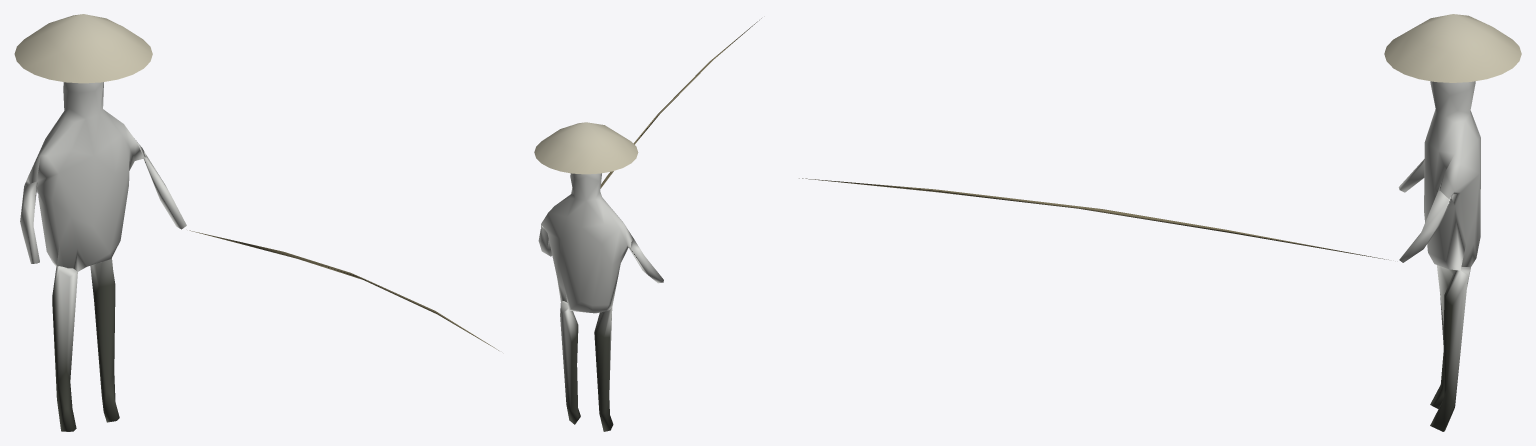
File: angler-1.glb
3 views of the same model, side by side, from view 1: azimuth 30°, elevation 25°; view 2: azimuth 150°, elevation 25°; view 3: azimuth 270°, elevation 25° (orthographic). The views are drawn at different scales.
Parts seen in each view (by area): view 1: angler; view 2: angler; view 3: angler.
Boxes of the visible parts, bbox=[...] form: angler: bbox=[14, 14, 498, 431]; angler: bbox=[534, 18, 761, 431]; angler: bbox=[799, 14, 1521, 431].
Bounding box in the file's own units: 0.7944 × 1.81 × 2.93.
